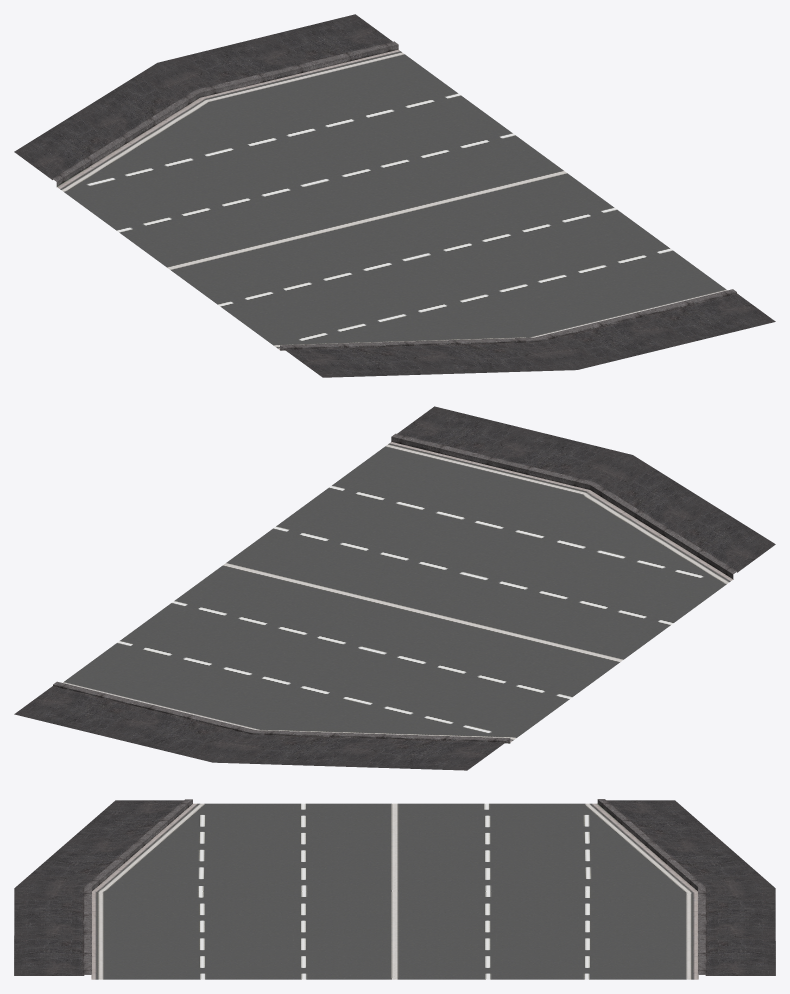
Rendered from 6 to 4 lines  exit_mobile.FBX.
3 renders of one model, top to bottom at view 1: azimuth 30°, elevation 25°; view 2: azimuth 150°, elevation 25°; view 3: azimuth 270°, elevation 25°, orthographic. The views are drawn at different scales.
Visible parts, largest first — view 1: Object001; view 2: Object001; view 3: Object001.
Part boxes in pixels (box(x1,y1,x2,y2)): Object001: box(14, 14, 775, 377); Object001: box(14, 406, 775, 770); Object001: box(14, 799, 775, 979).
Bounding box in the file's own units: 24.03 × 0.3184 × 43.99.
